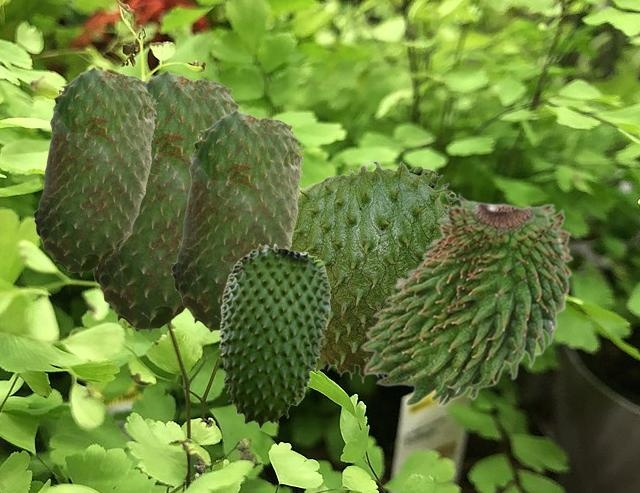guyabano: (359, 192, 573, 406), (93, 69, 244, 333), (291, 159, 456, 383), (170, 109, 304, 333), (32, 66, 157, 275), (218, 243, 330, 428)
